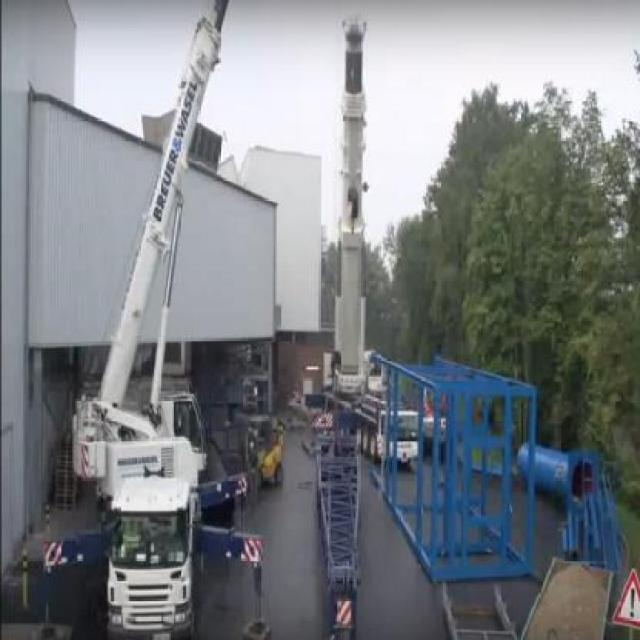Mobile Crane: (52, 0, 229, 632), (289, 14, 423, 469)
